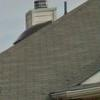Chimney: (23, 1, 61, 31)
